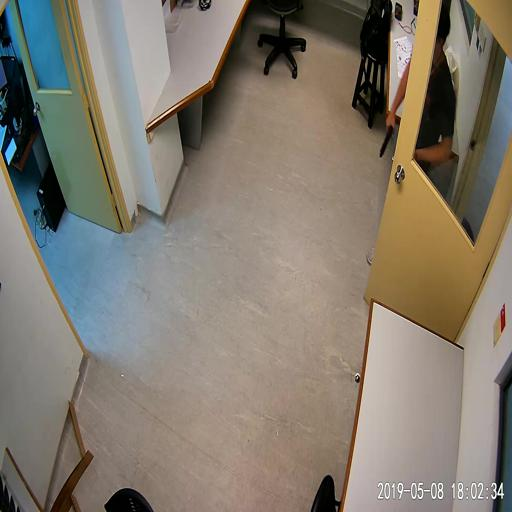pistol: (379, 116, 393, 156)
